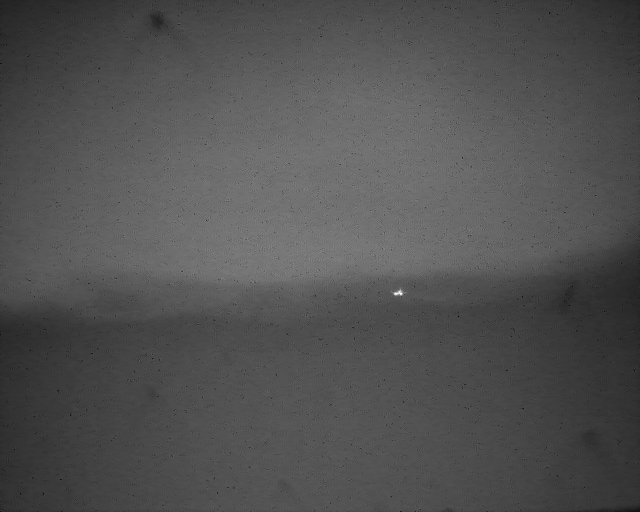Target: (392, 288, 405, 296)
